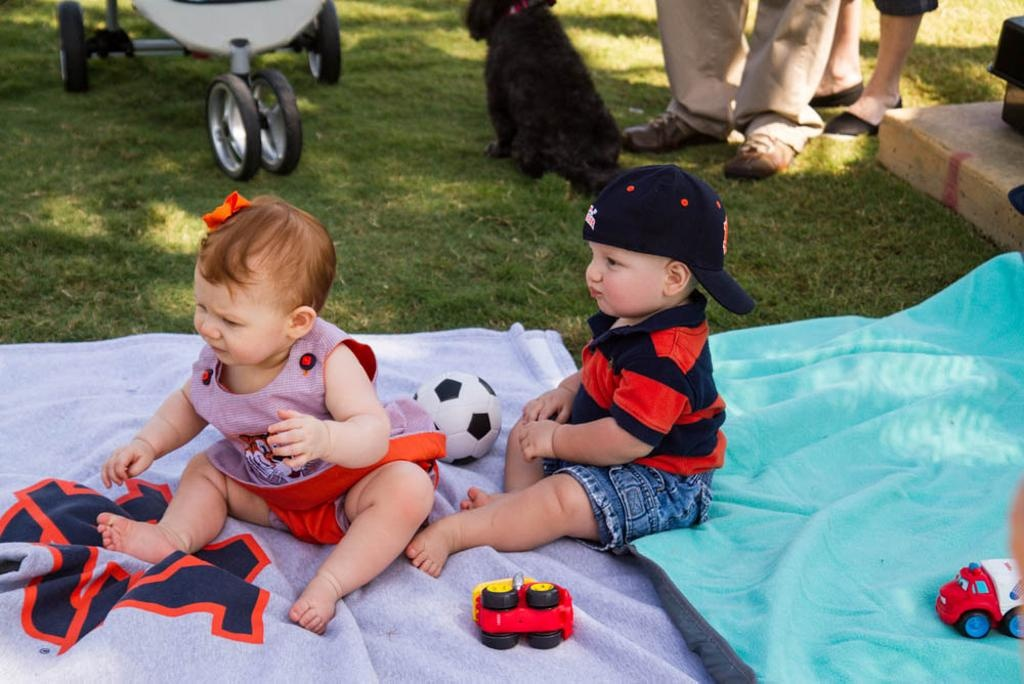human_face: (192, 246, 278, 364), (586, 218, 656, 320)
